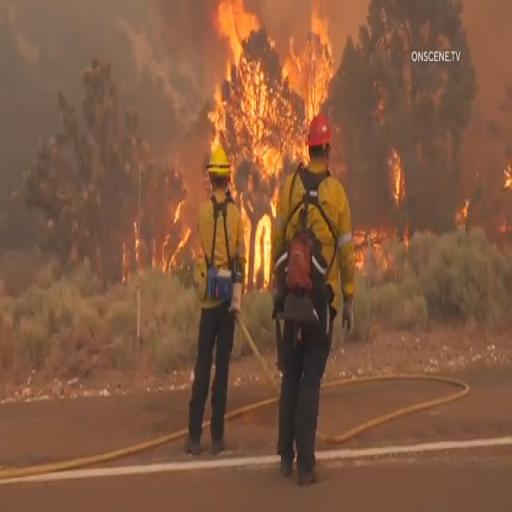fire: (224, 0, 306, 169), (133, 200, 187, 290)
